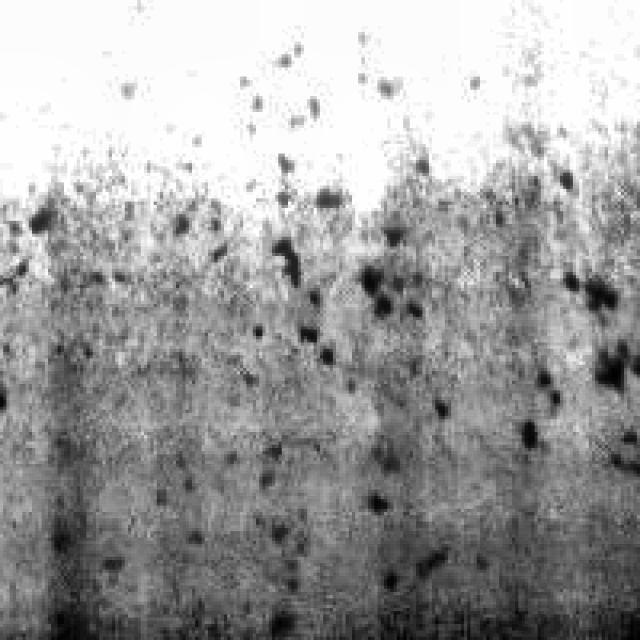Rolled_in_Scale: (211, 20, 451, 582), (516, 240, 630, 467)
